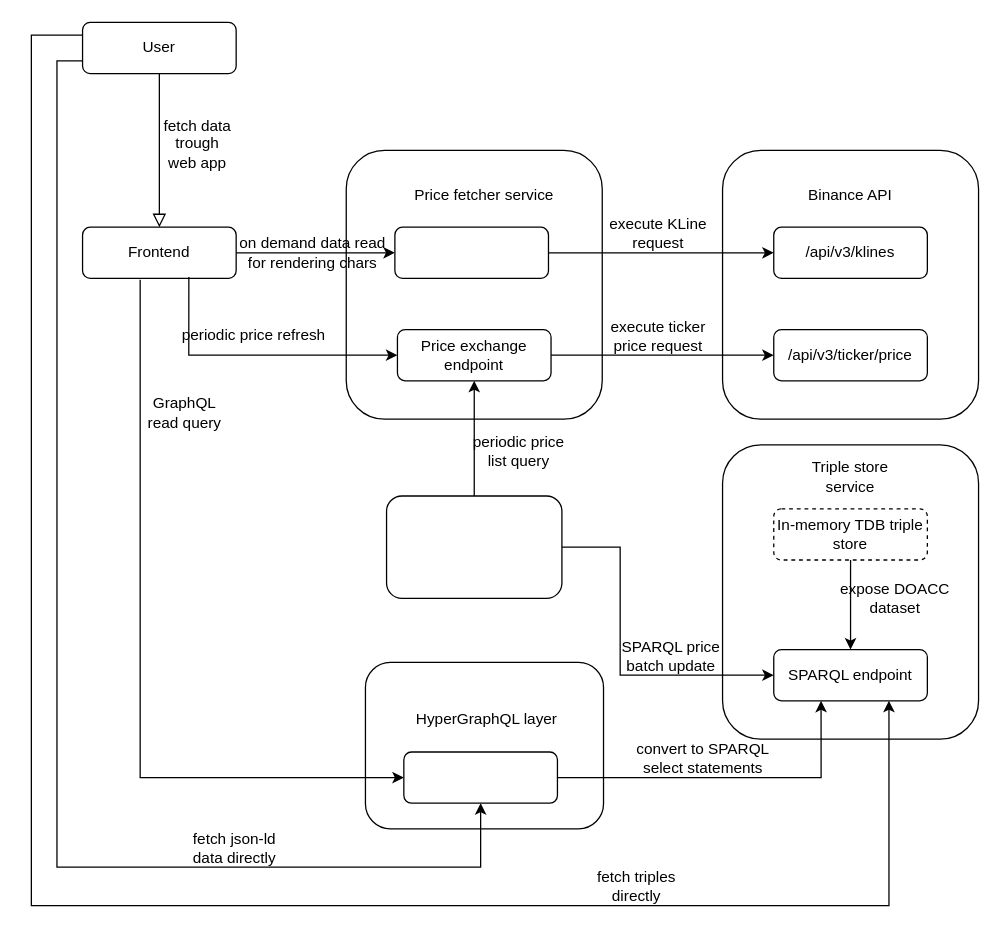
Some shapes in this 1001 by 938 pixel diagram are drawn without their labels. The shapes that lost their labels are listed below. From the top down, each one's centre as x and y in pixels, then its label:
At (x=471, y=252): "Price history endpoint".
At (x=473, y=546): "Price updater service".
At (x=480, y=777): "GraphQL endpoint".
